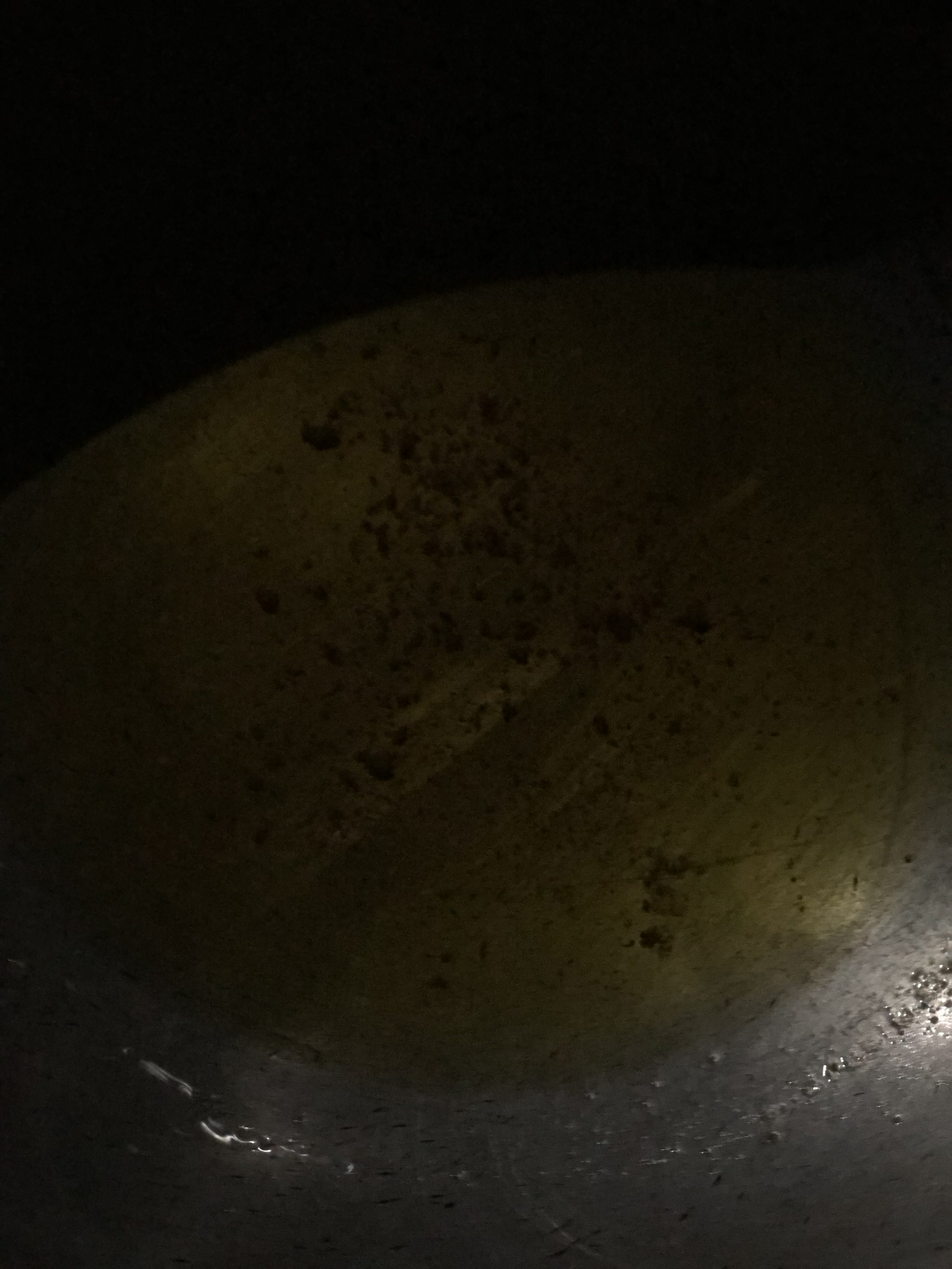reusable: (0, 268, 952, 1076)
